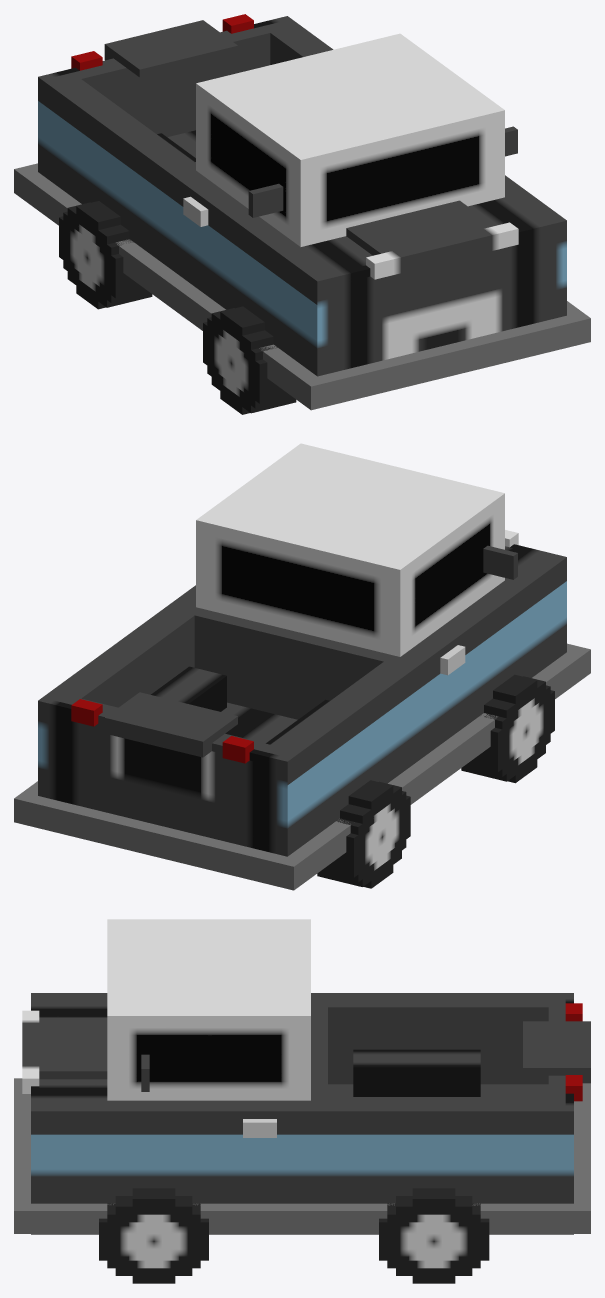
File: car_2_seats_3.fbx
3 views of the same model, one above another, from view 1: azimuth 30°, elevation 25°; view 2: azimuth 150°, elevation 25°; view 3: azimuth 270°, elevation 25° (orthographic). The views are drawn at different scales.
Visible parts, largest first — view 1: body, back_right_wheel, back_left_wheel; view 2: body, back_left_wheel, back_right_wheel; view 3: body, front_left_wheel, front_right_wheel.
Boxes of the visible parts, box(x1,y1,x2,y2) form: body: box(14, 14, 590, 410); back_right_wheel: box(203, 306, 296, 414); back_left_wheel: box(59, 201, 152, 309); body: box(14, 443, 590, 890); back_left_wheel: box(317, 780, 410, 888); back_right_wheel: box(461, 674, 554, 783); body: box(14, 919, 590, 1234); front_left_wheel: box(379, 1188, 489, 1283); front_right_wheel: box(99, 1188, 208, 1283).
Size of the model in its own units: 39 by 32 by 68.
Materials: 1 (1 with a texture image).
